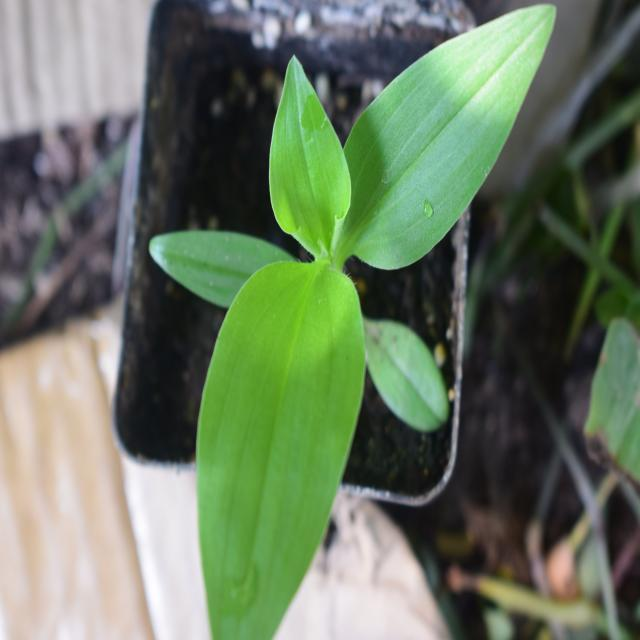Common Dayflower: (181, 22, 538, 604)
